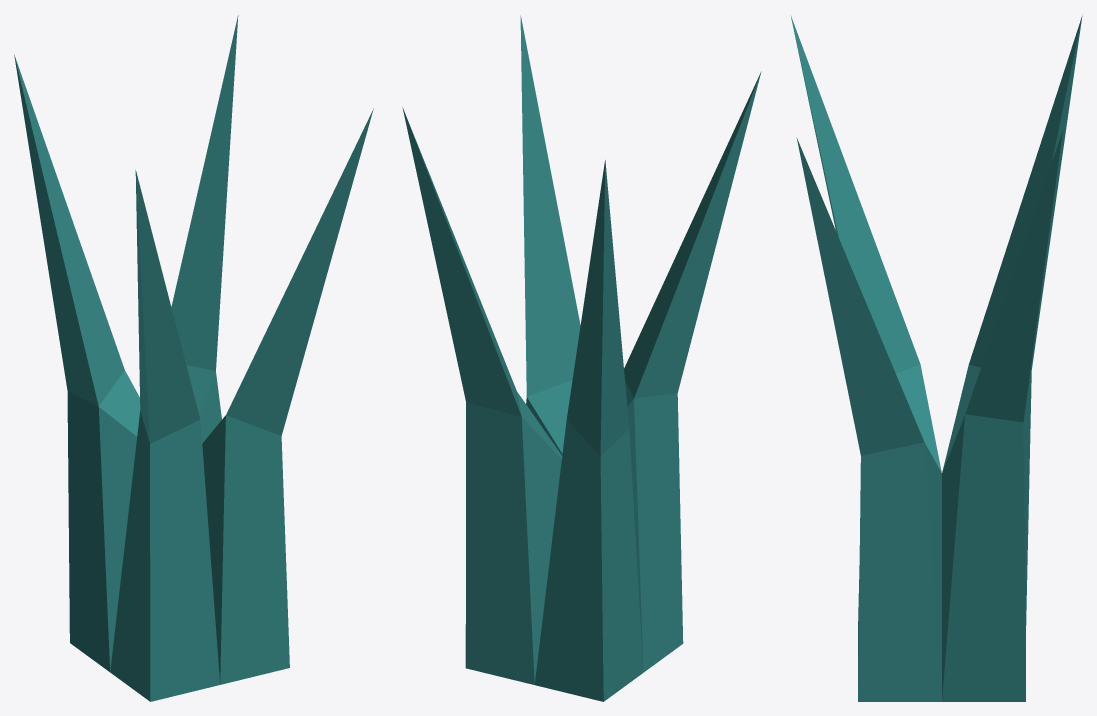
File: Grass_6_Blue.fbx
The picture shows the model from 3 angles, left to right: view 1: azimuth 30°, elevation 25°; view 2: azimuth 150°, elevation 25°; view 3: azimuth 270°, elevation 25°; orthographic projection. The views are drawn at different scales.
Parts seen in each view (by area): view 1: Grass_6_Blue; view 2: Grass_6_Blue; view 3: Grass_6_Blue.
Part boxes in pixels (bbox=[...]): Grass_6_Blue: bbox=[14, 15, 373, 701]; Grass_6_Blue: bbox=[402, 15, 761, 701]; Grass_6_Blue: bbox=[790, 15, 1082, 701].
Bounding box in the file's own units: 17.29 × 39.51 × 17.38.
